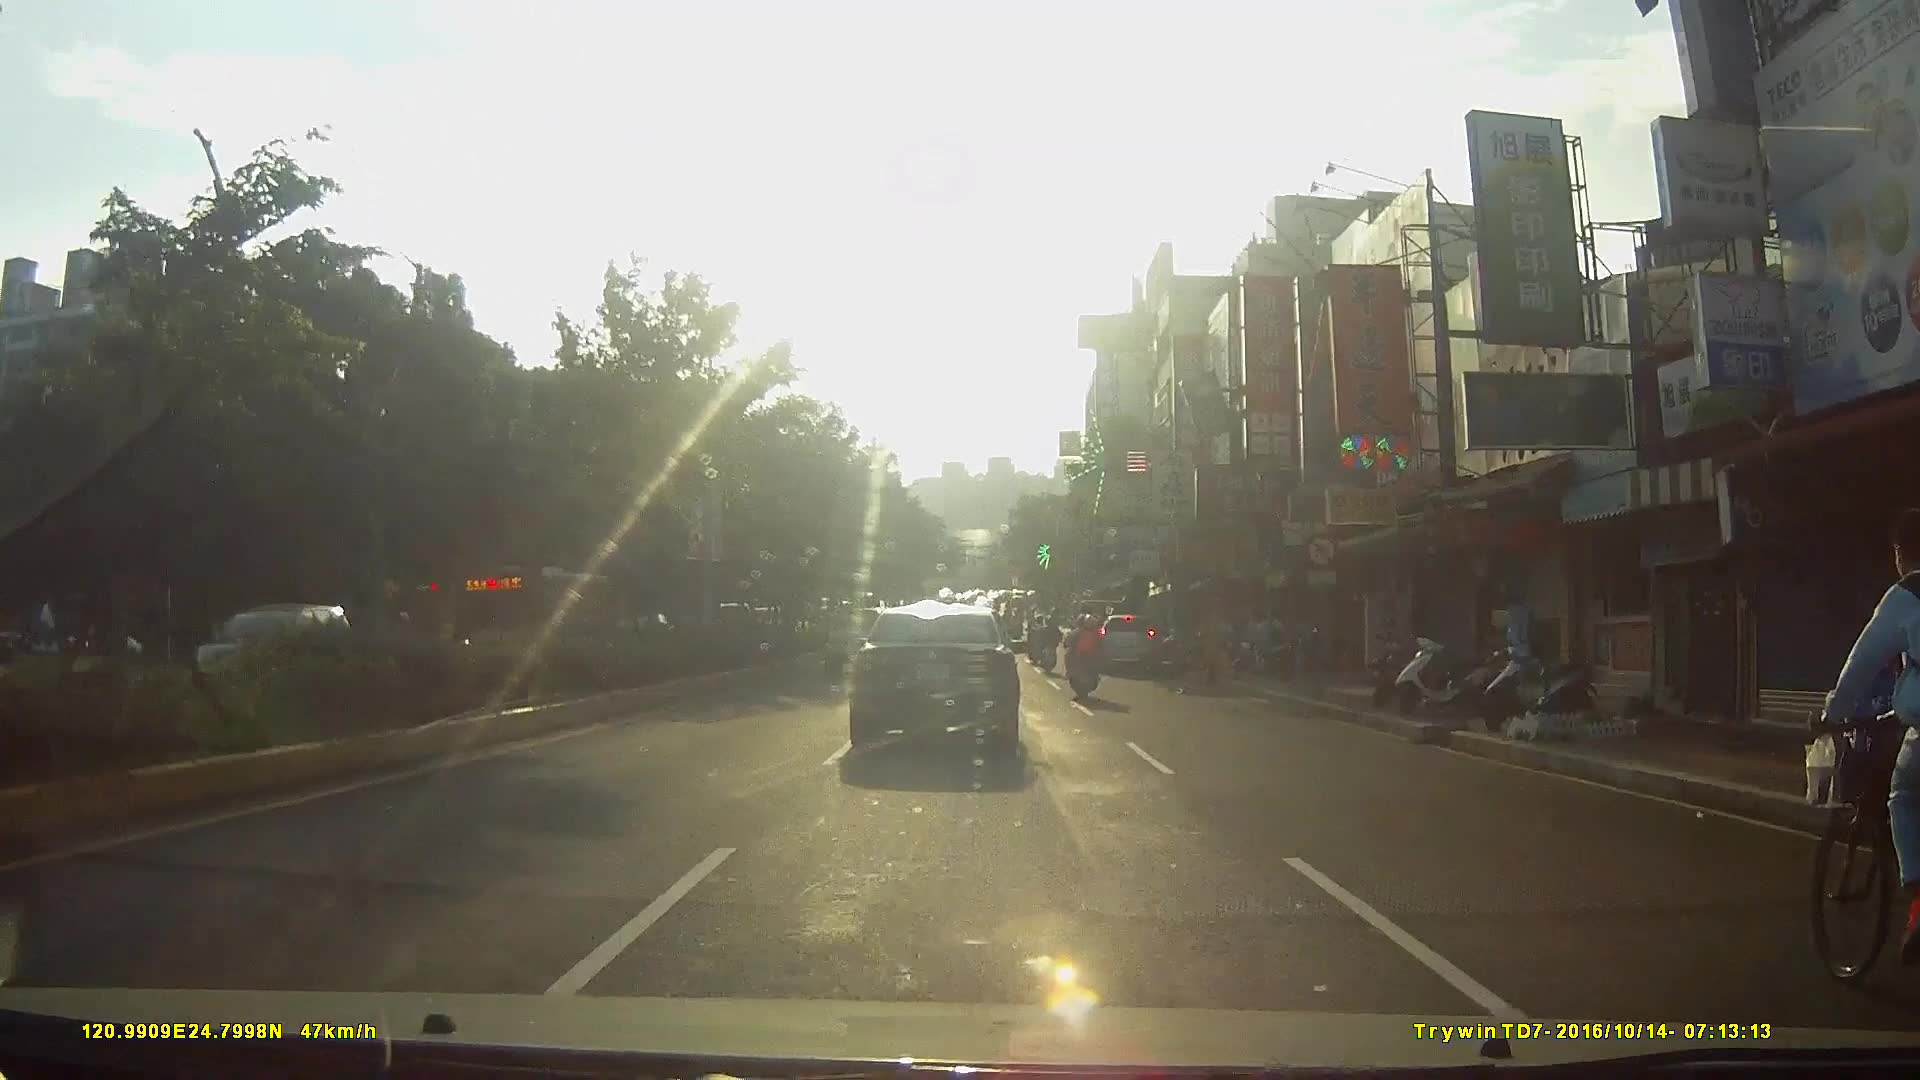pedestrian: (1495, 587, 1535, 688)
rider: (1809, 512, 1920, 1029), (1062, 612, 1106, 709), (1033, 612, 1063, 678)
vehicle: (844, 593, 1041, 767), (1091, 605, 1166, 674)
